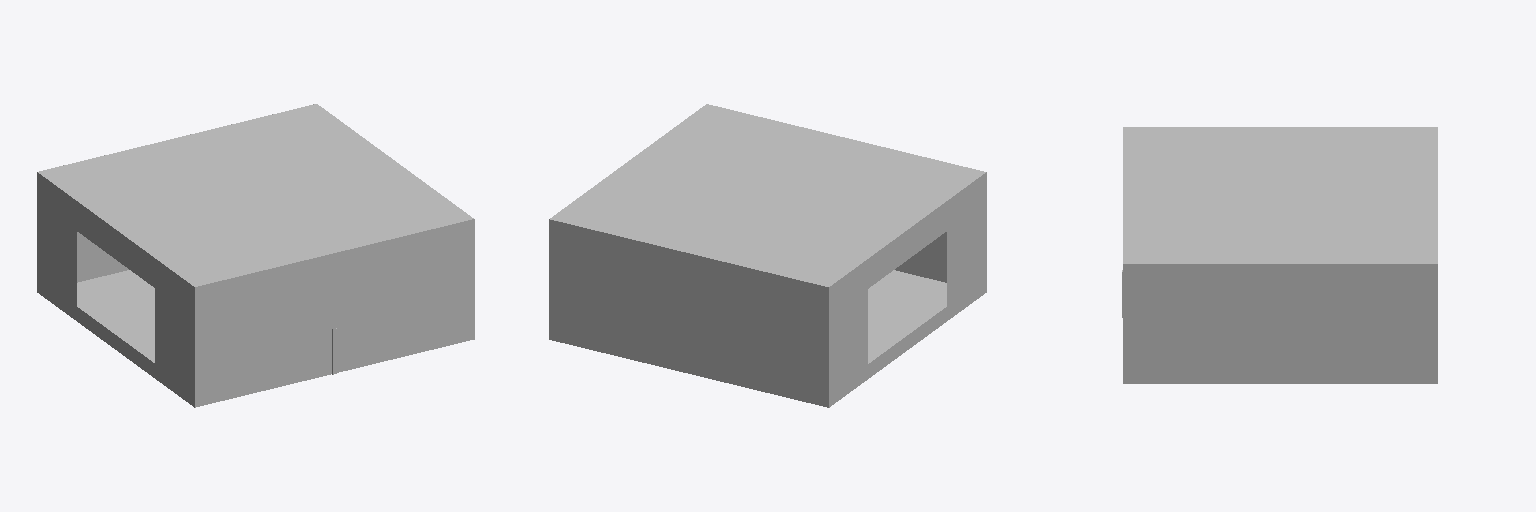
The model's file is office.obj.
3 views of the same model, side by side, from view 1: azimuth 30°, elevation 25°; view 2: azimuth 150°, elevation 25°; view 3: azimuth 270°, elevation 25° (orthographic).
Parts seen in each view (by area): view 1: Plane; view 2: Plane; view 3: Plane.
Part boxes in pixels (x1,y1,x2,y2): Plane: (37,104,474,407); Plane: (549,104,986,407); Plane: (1123,127,1437,383).
Bounding box in the file's own units: 14.58 × 6.02 × 14.25.